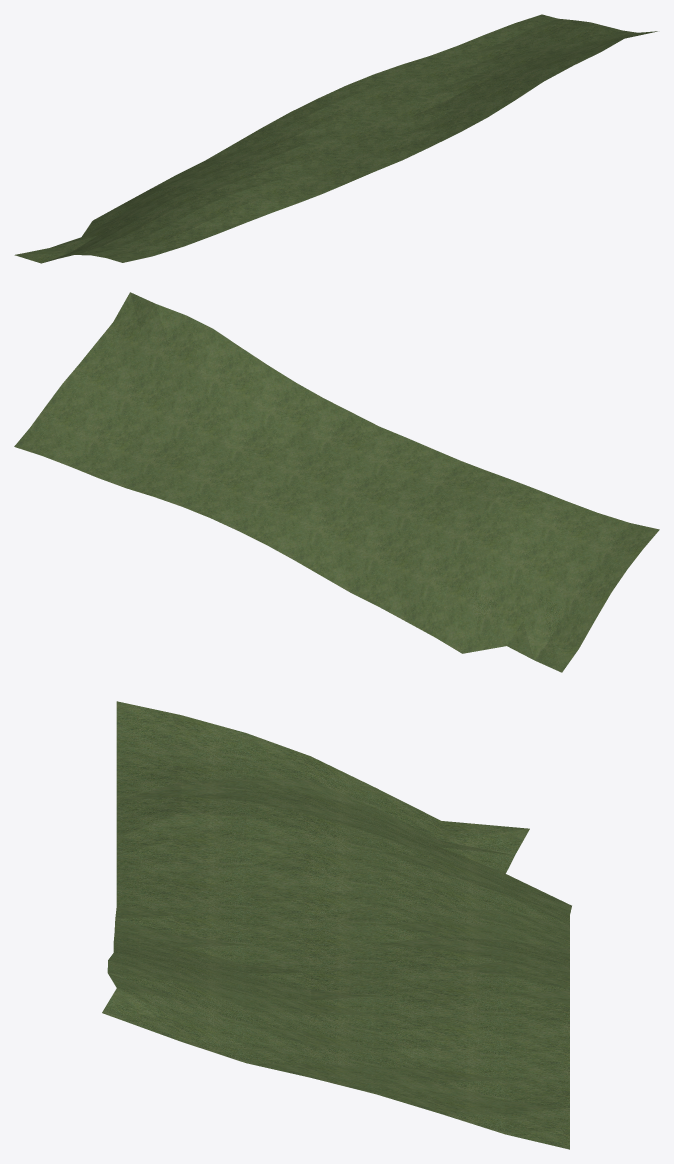
The model's file is a_carisle_mid_landmass_02_13.fbx.
3 views of the same model, one above another, from view 1: azimuth 30°, elevation 25°; view 2: azimuth 150°, elevation 25°; view 3: azimuth 270°, elevation 25° (orthographic). The views are drawn at different scales.
Visible parts, largest first — view 1: a_carisle_mid_landmass_02_13; view 2: a_carisle_mid_landmass_02_13; view 3: a_carisle_mid_landmass_02_13.
Part boxes in pixels (x1,y1,x2,y2): a_carisle_mid_landmass_02_13: [14, 14, 657, 263]; a_carisle_mid_landmass_02_13: [14, 292, 659, 672]; a_carisle_mid_landmass_02_13: [102, 701, 571, 1149].
Bounding box in the file's own units: 39.13 × 14.79 × 11.85.
